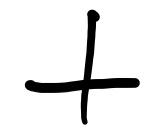plus: (25, 10, 139, 125)
